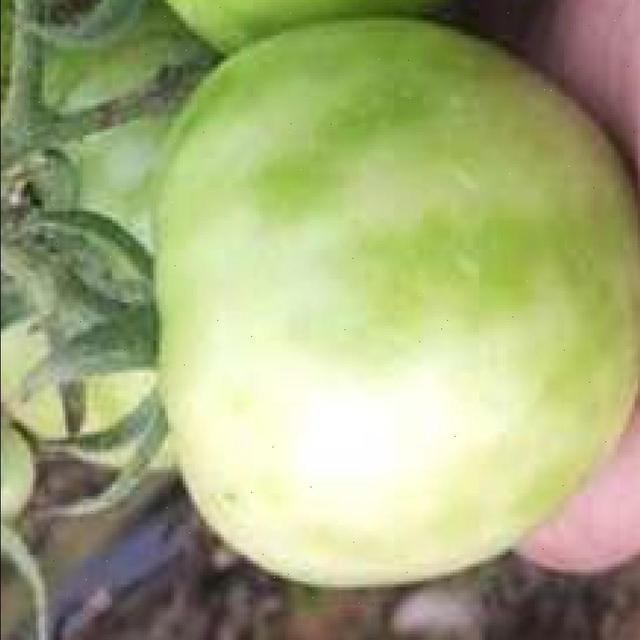Spotted wilt Virus Fruit: (98, 10, 427, 393)
